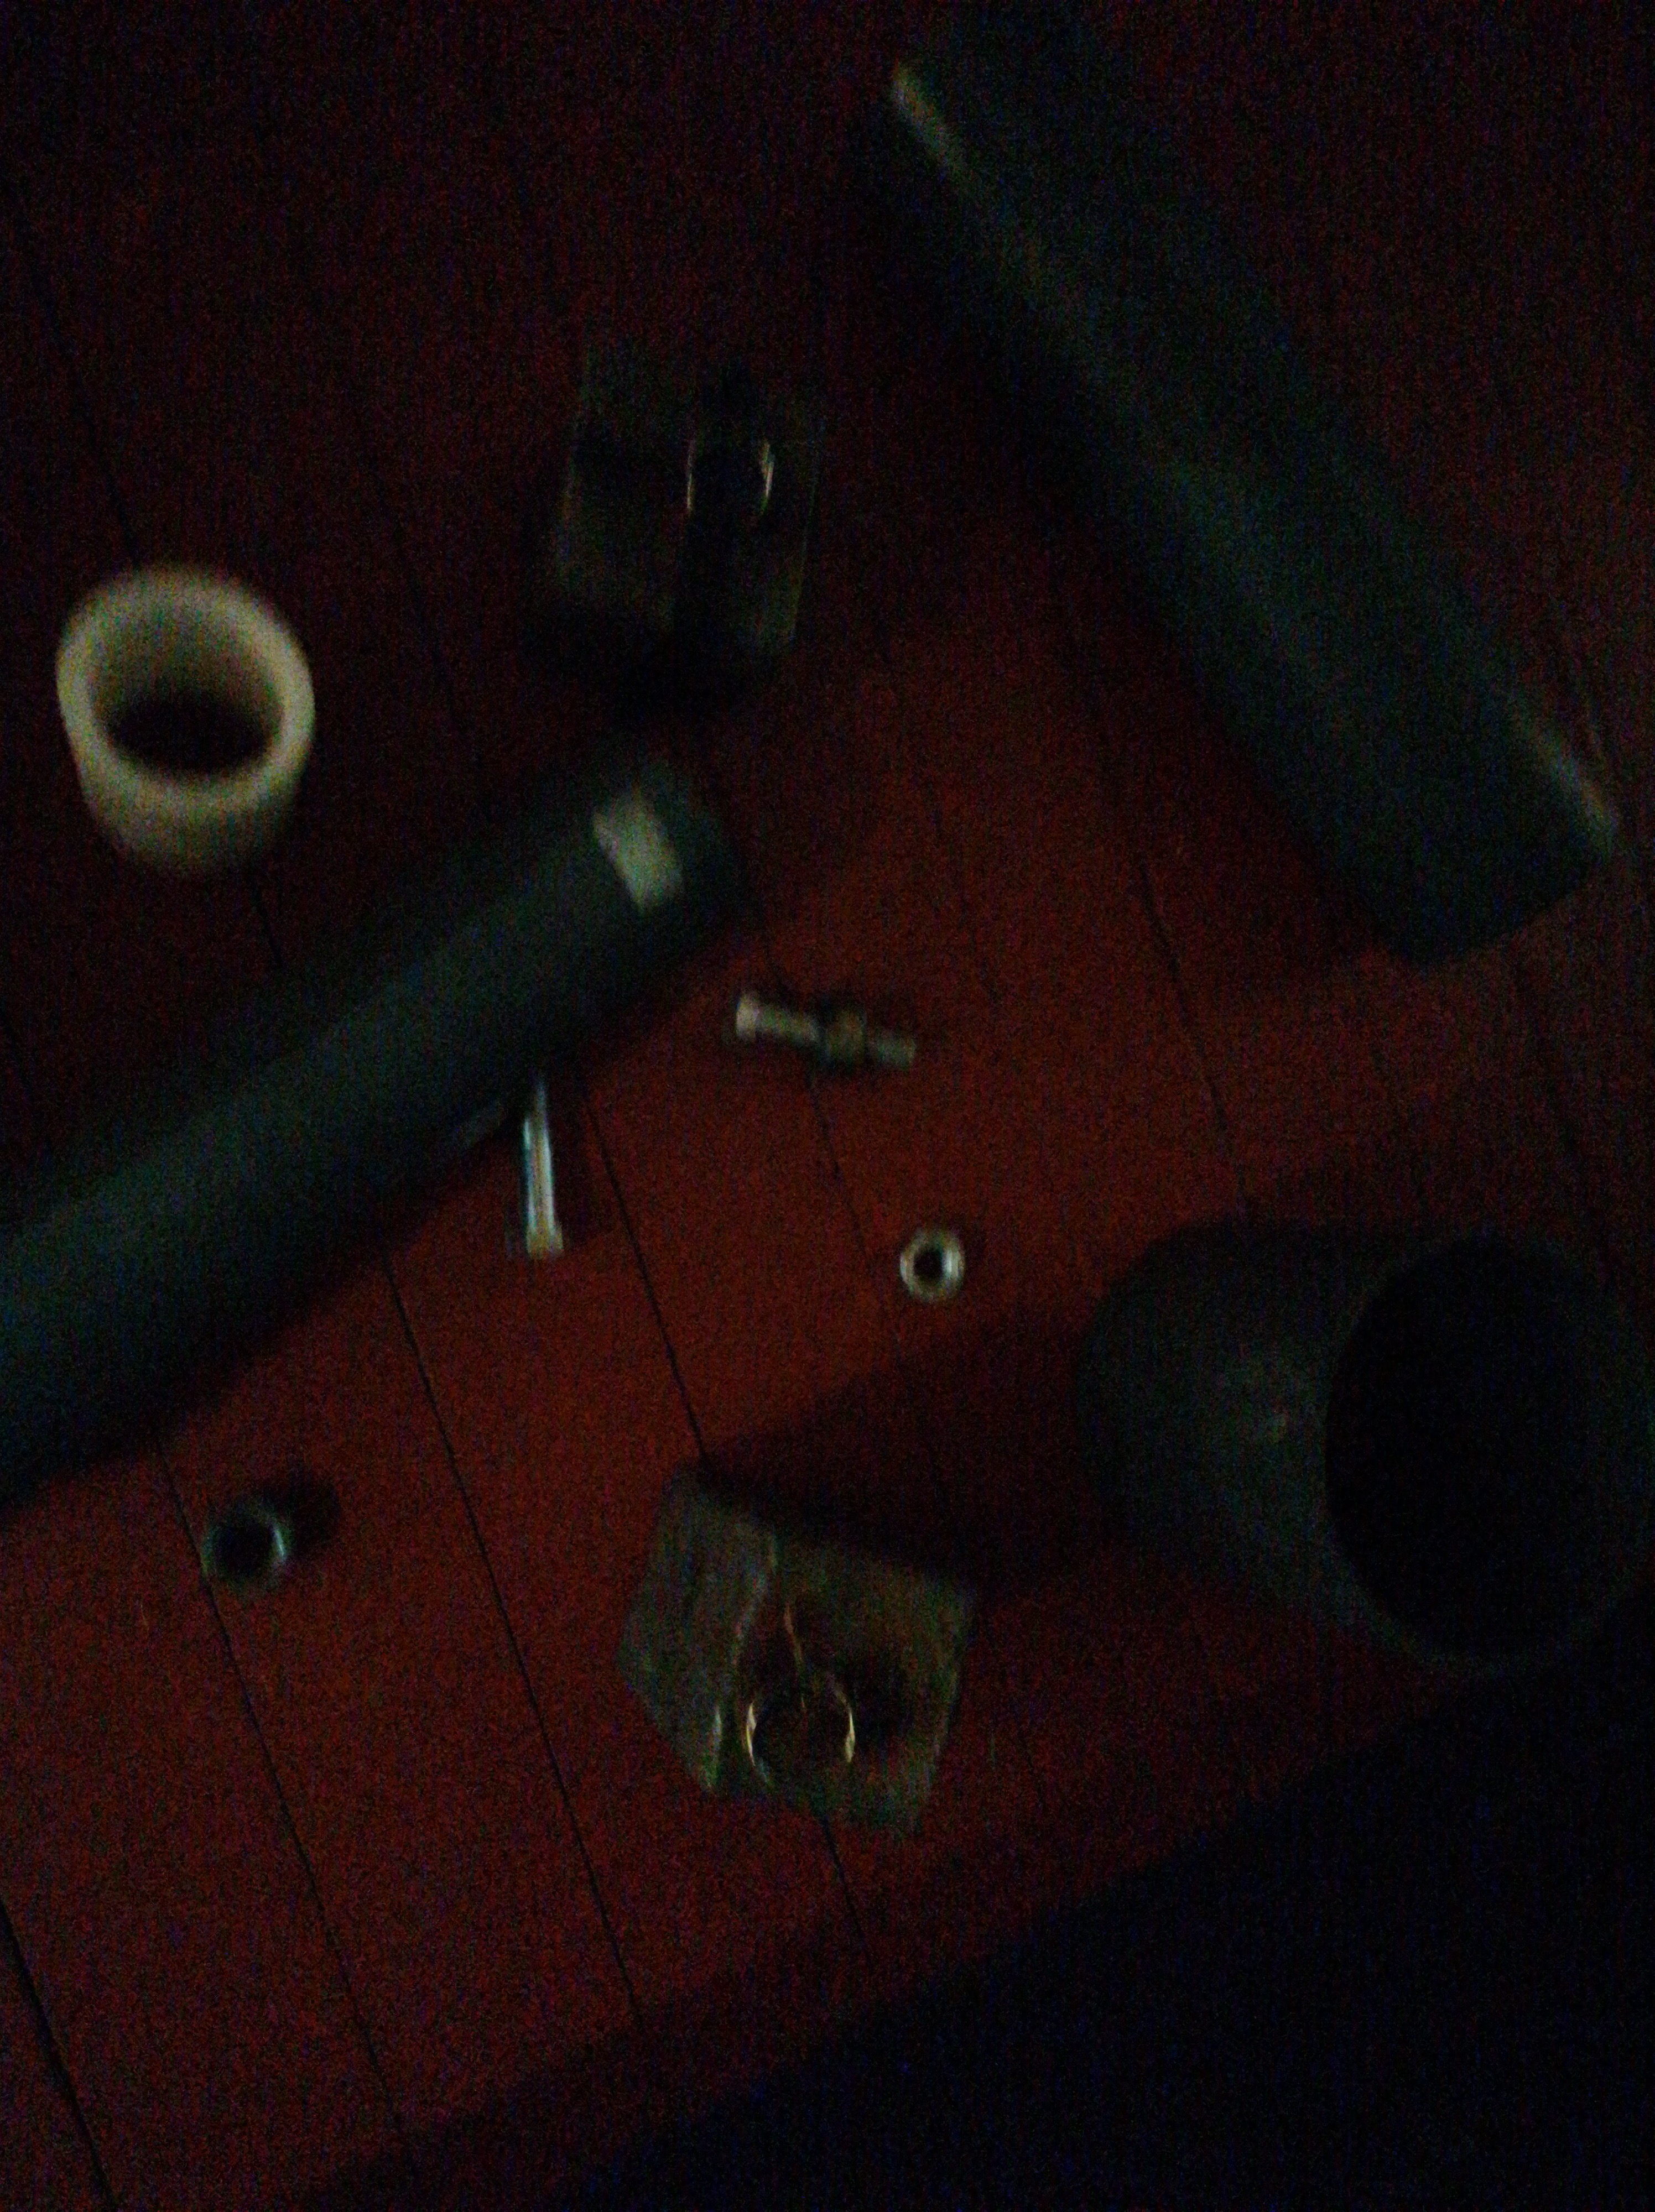bolt: (727, 987, 927, 1079), (518, 1062, 581, 1284)
lead_block: (612, 1472, 980, 1844), (513, 334, 836, 697)
nut: (196, 1498, 304, 1602), (814, 989, 874, 1102), (897, 1225, 970, 1307)
pipe: (869, 9, 1620, 971), (0, 723, 748, 1513), (1078, 1213, 1655, 1685), (50, 554, 320, 884)
